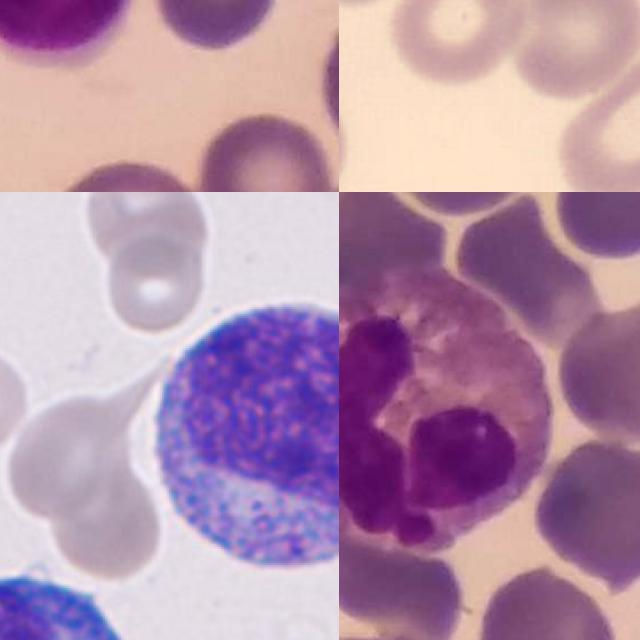Eosinophil: (339, 266, 552, 556)
Lymphocyte: (138, 284, 339, 584), (0, 558, 160, 640), (0, 0, 133, 72)
RBC: (0, 389, 136, 526), (45, 459, 166, 587), (549, 44, 640, 192), (506, 0, 640, 100), (384, 0, 531, 88), (78, 192, 215, 277), (100, 234, 210, 334), (0, 333, 34, 458), (339, 0, 423, 14)
